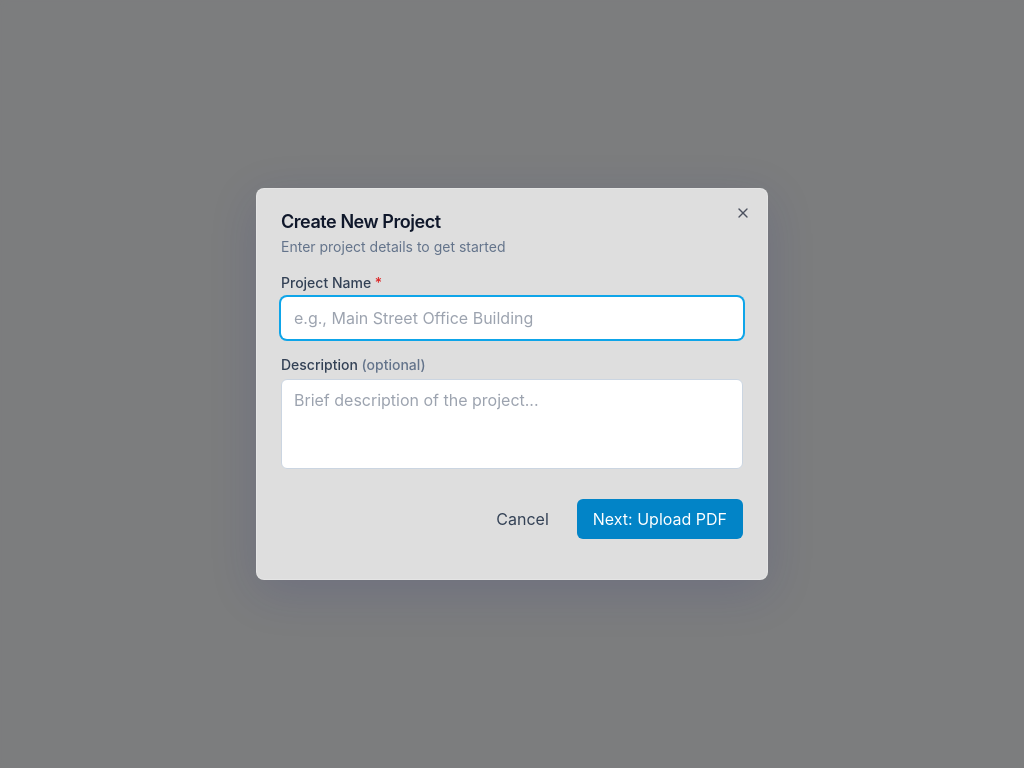
Test: CreateProjectDialog › Step 1: Project Details › should progress to upload step with valid inputs
The width and height of the screenshot is (1024, 768).
Type "Test Project" into the field labelled "Project Name *" at (512, 318), box [281,297,743,339]
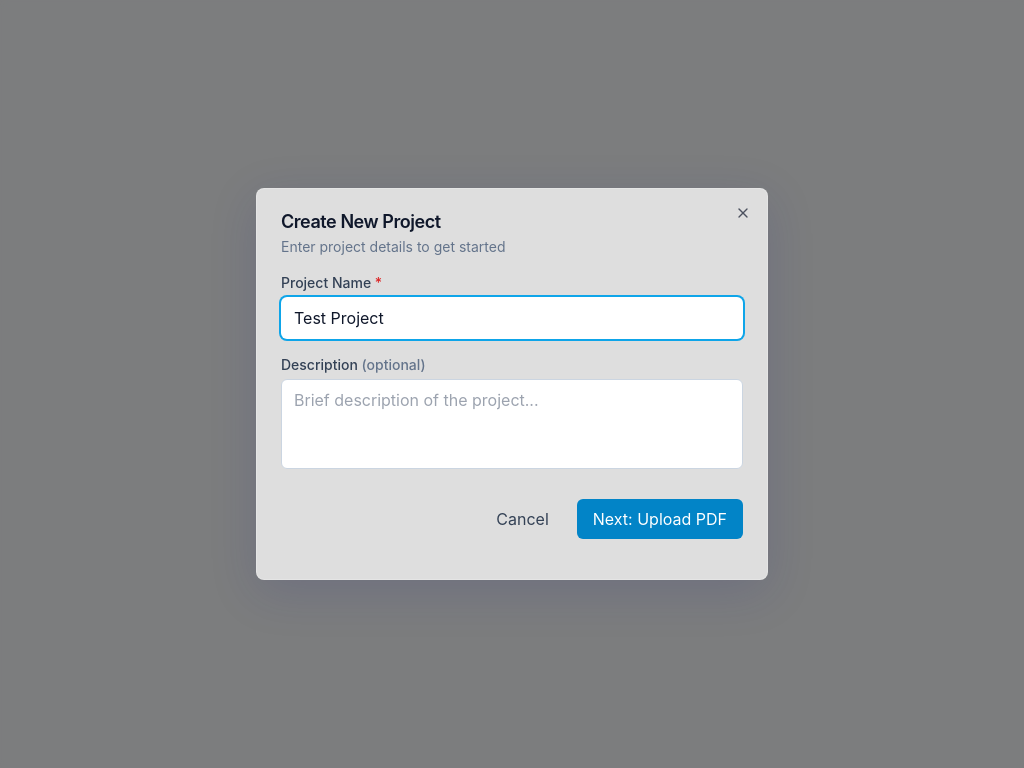
Click the button "Next: Upload PDF" at (660, 519), box [577,499,743,539]
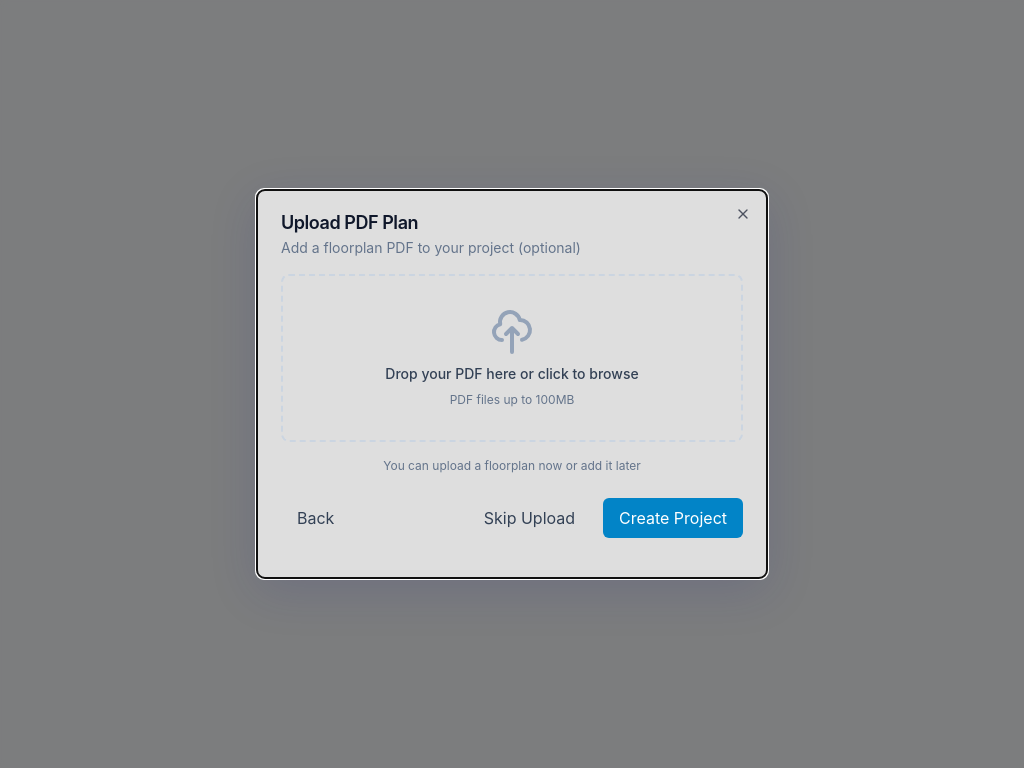
expect the heading "Upload PDF Plan" is shown: met, box [281,212,418,233]
expect the text "Drop your PDF here or click to browse" is shown: met, box [385,365,639,382]
